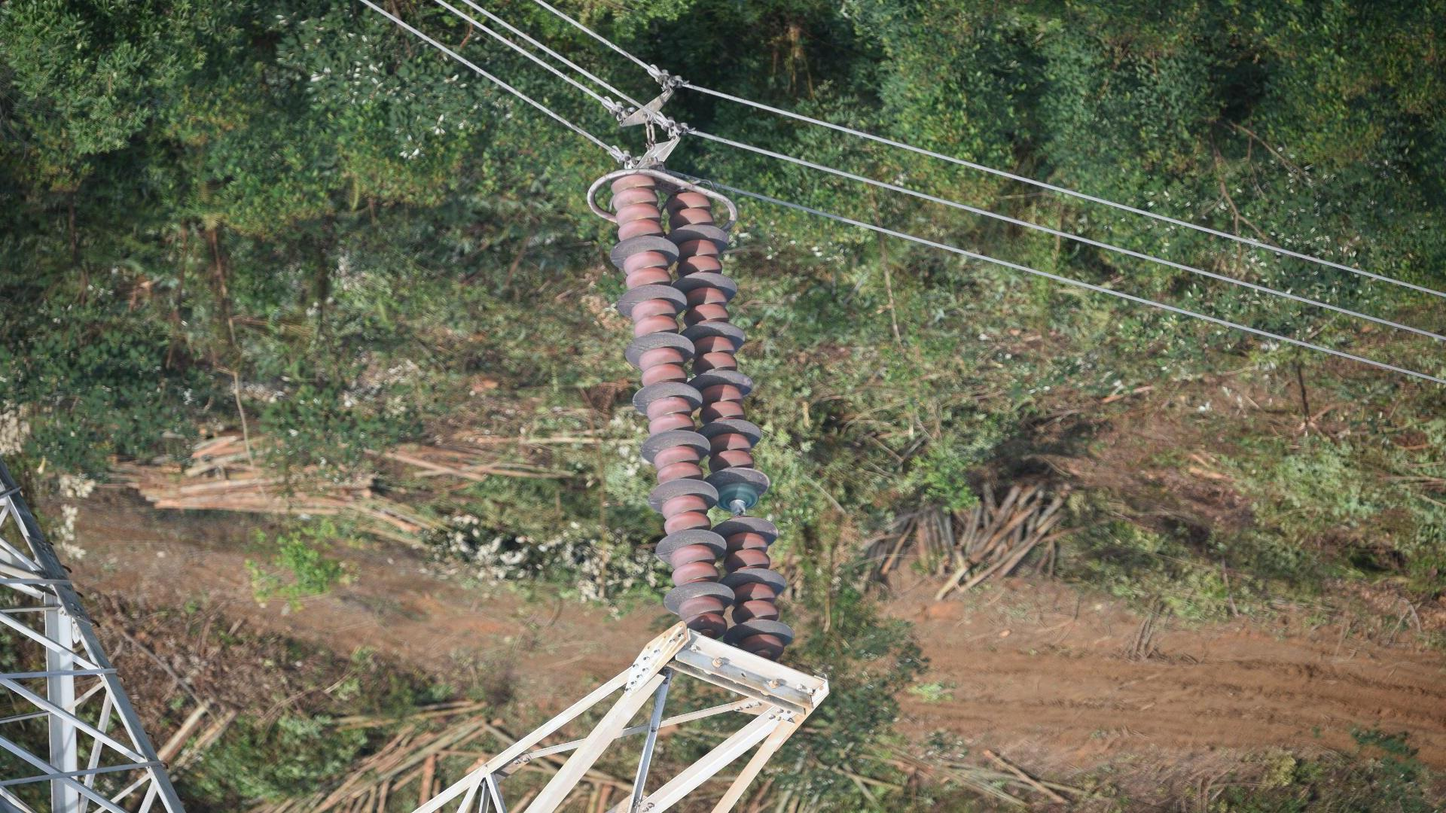insulator: (662, 186, 798, 665), (604, 169, 740, 646)
insulator_stringdrop: (715, 479, 781, 543)
